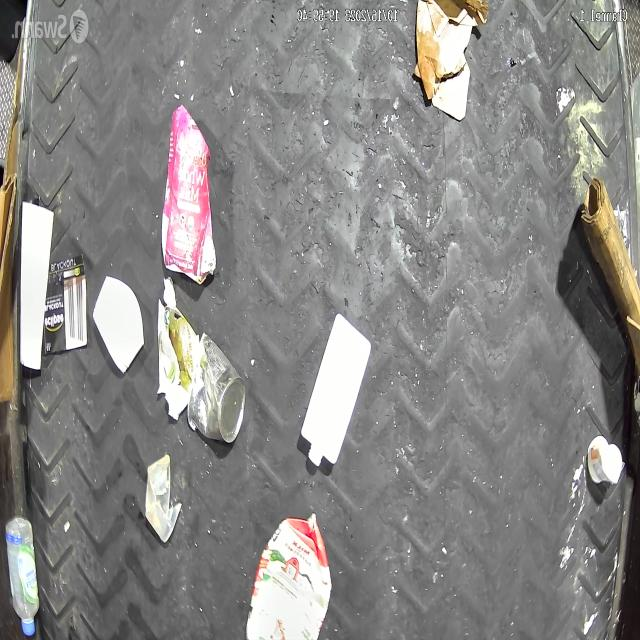can: (179, 322, 247, 451)
non_white_jug: (244, 508, 331, 640), (161, 109, 217, 283)
plastic_bottle: (0, 508, 38, 640)
